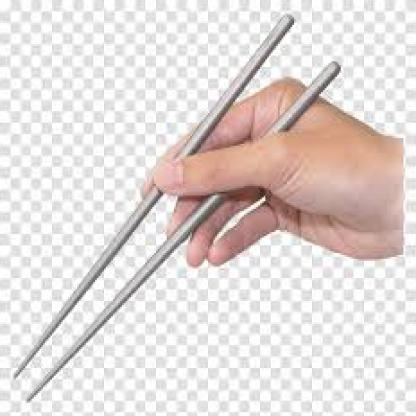chopstick: (25, 60, 341, 400), (11, 13, 296, 378)
